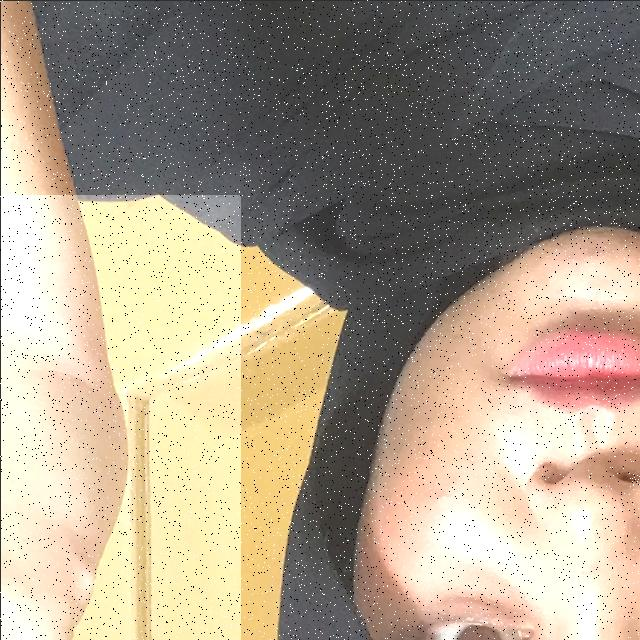kapan: (0, 194, 240, 640)
